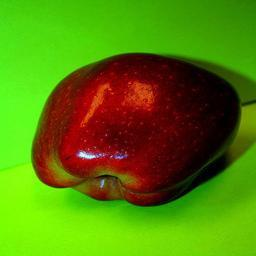apple: (30, 50, 242, 209)
